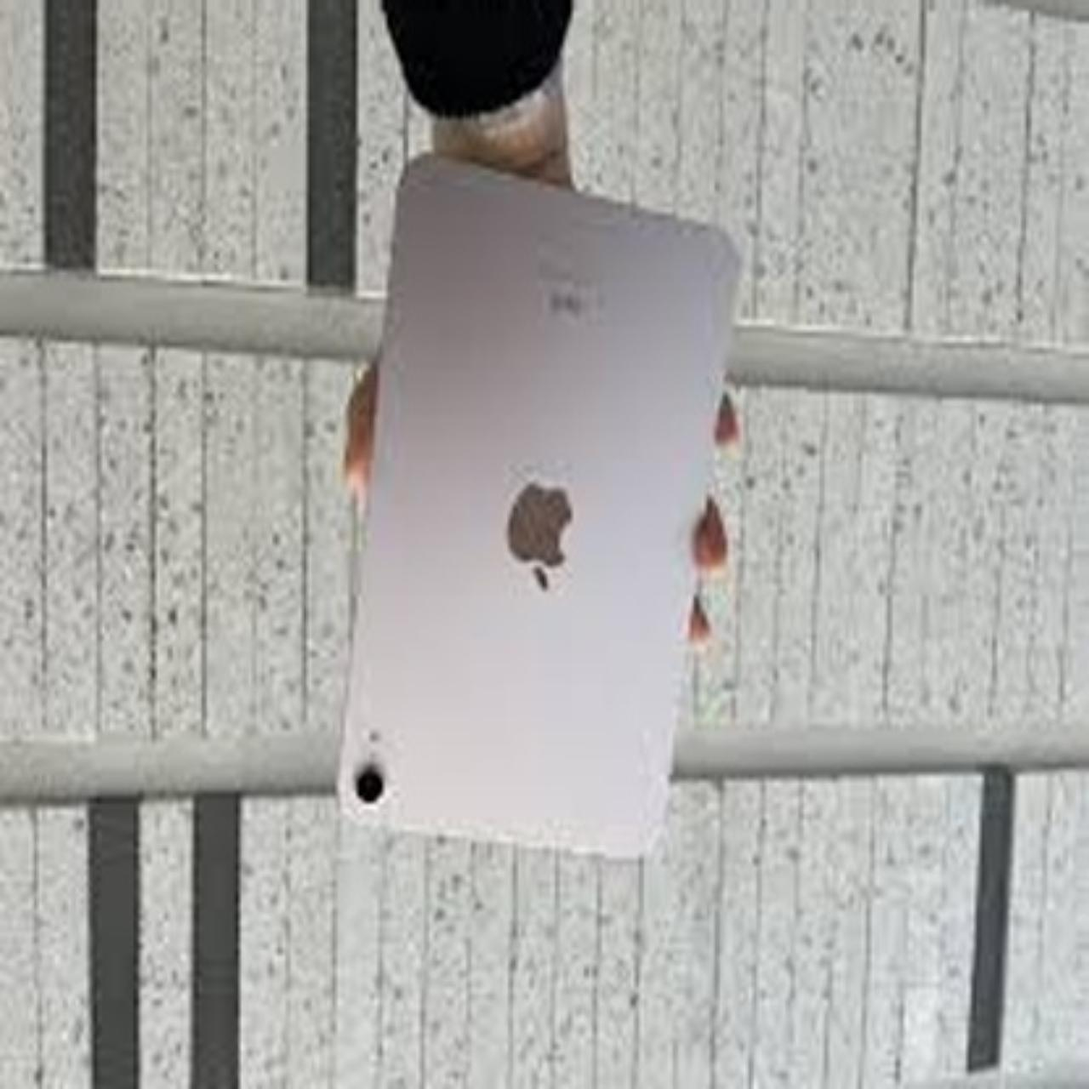Tablet_PC: (311, 142, 759, 864)
